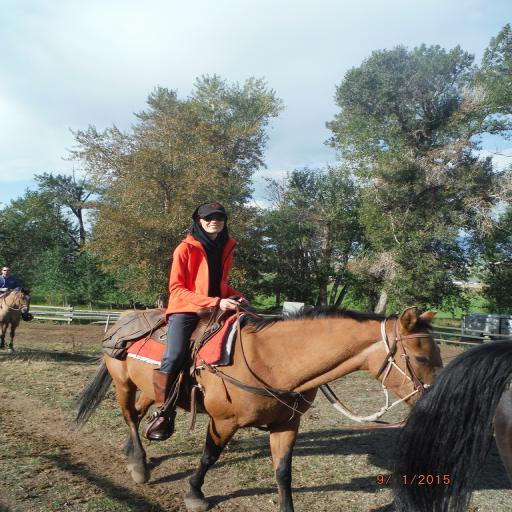Horse: (69, 304, 443, 512), (382, 338, 512, 512), (0, 285, 32, 353), (0, 286, 32, 354)
